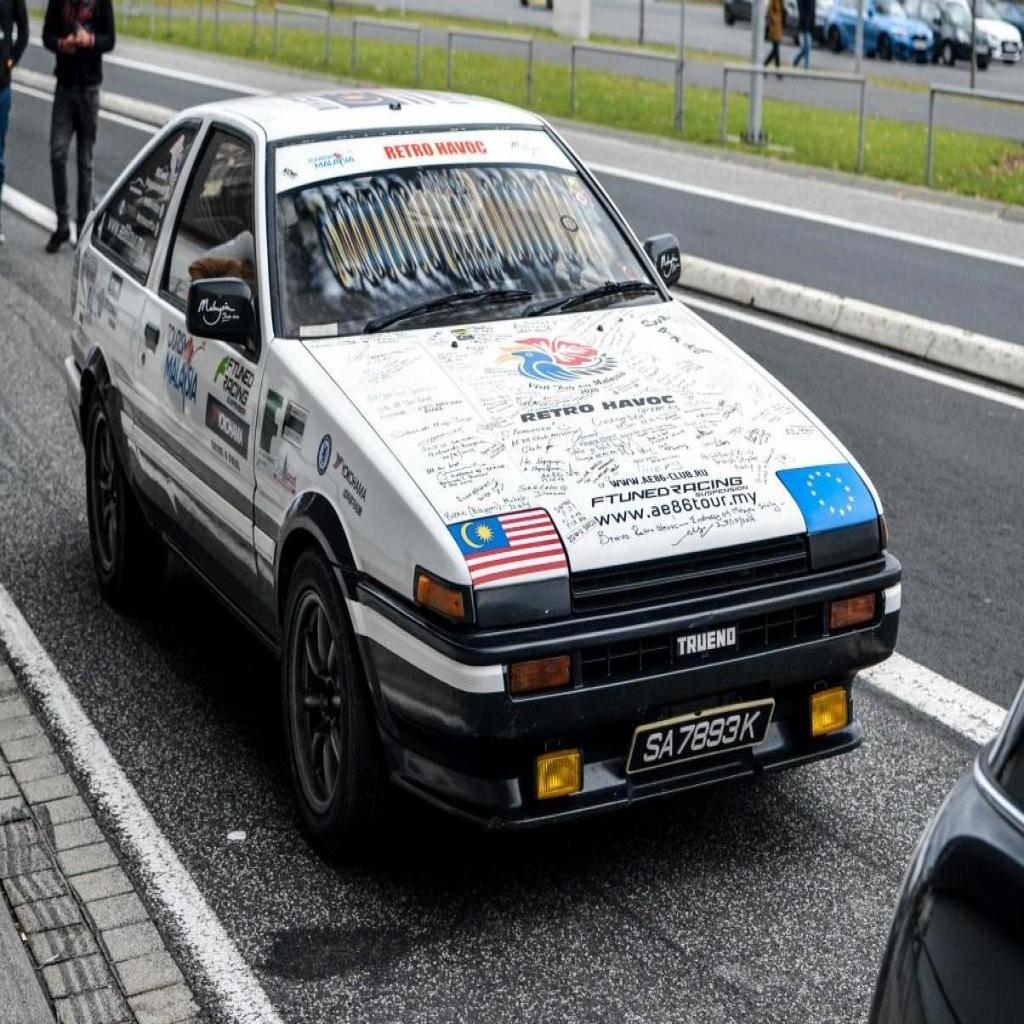car: (65, 89, 900, 844)
car plate: (626, 699, 773, 772)
